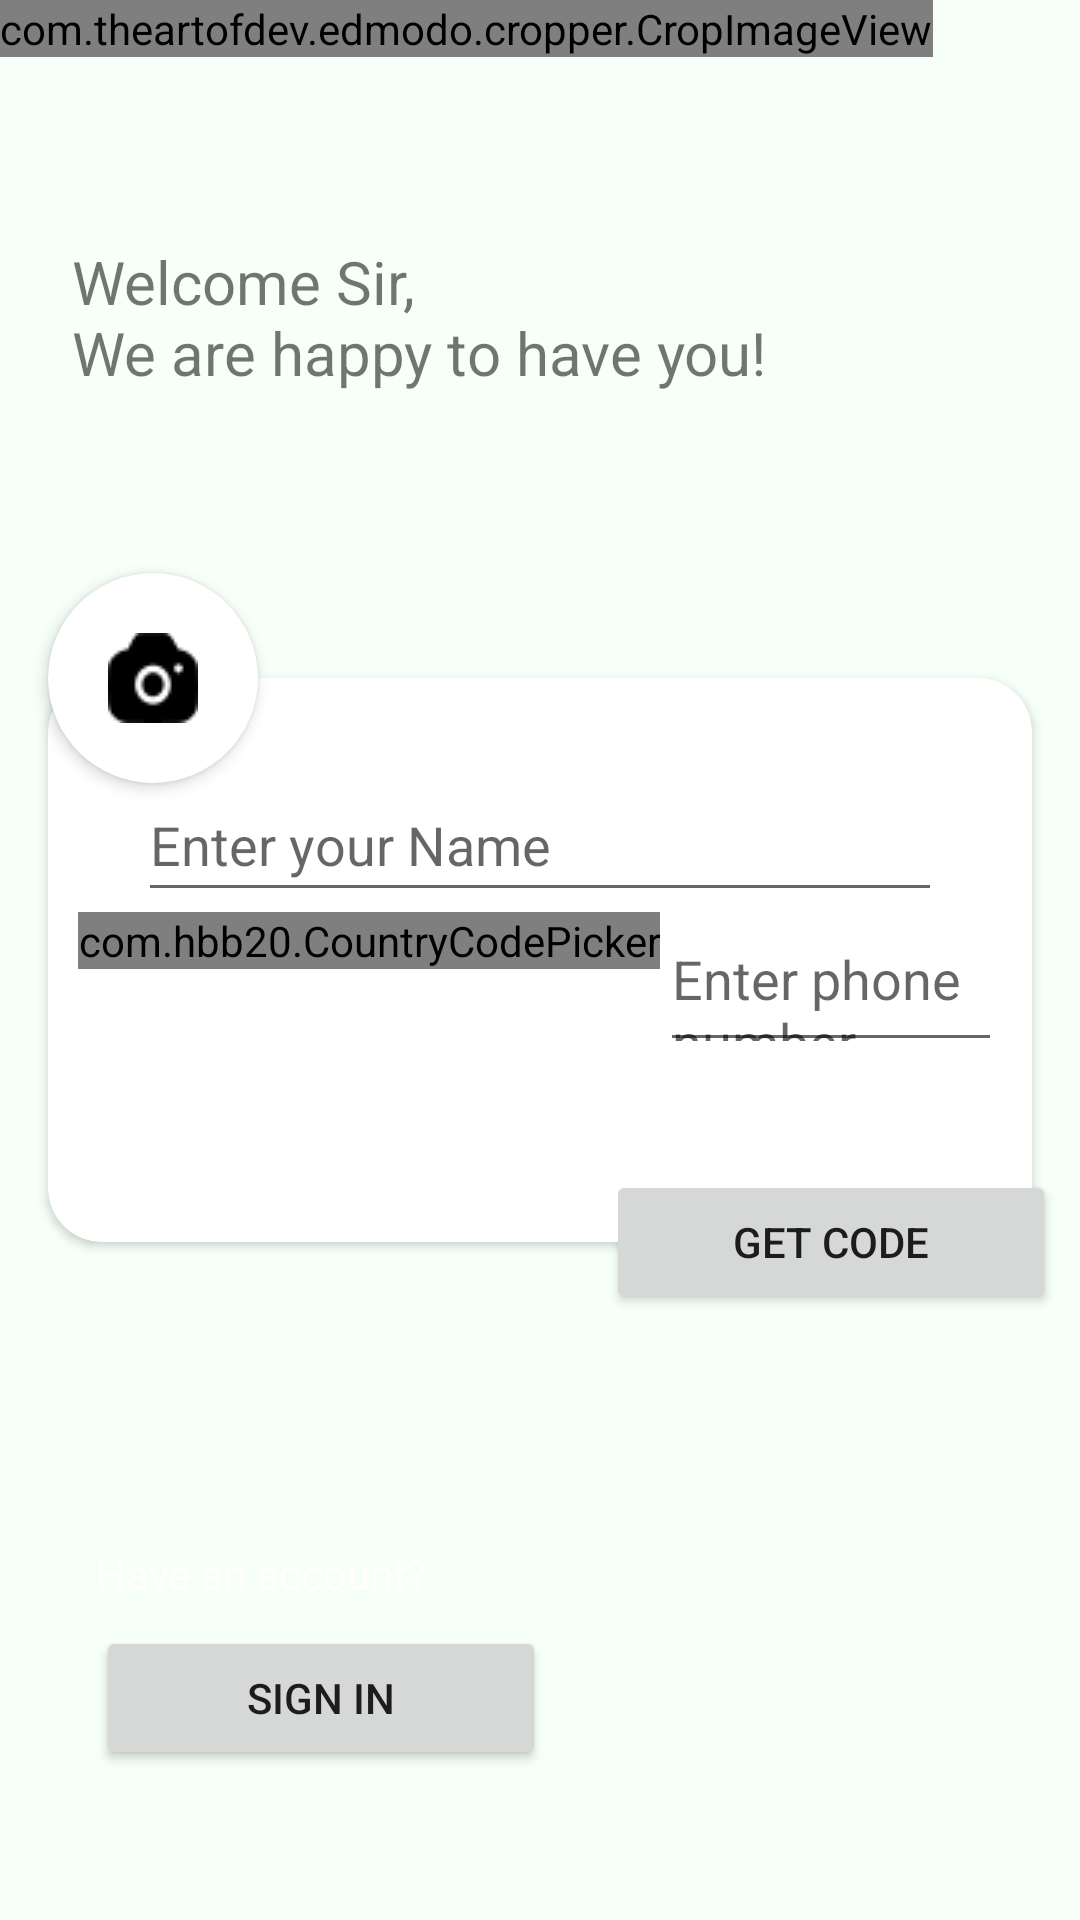

Locate icon controls on the screen. Image size 1080w x 1920h, boxes as (x1, y1, x2, y2).
camera: (108, 633, 198, 723)
